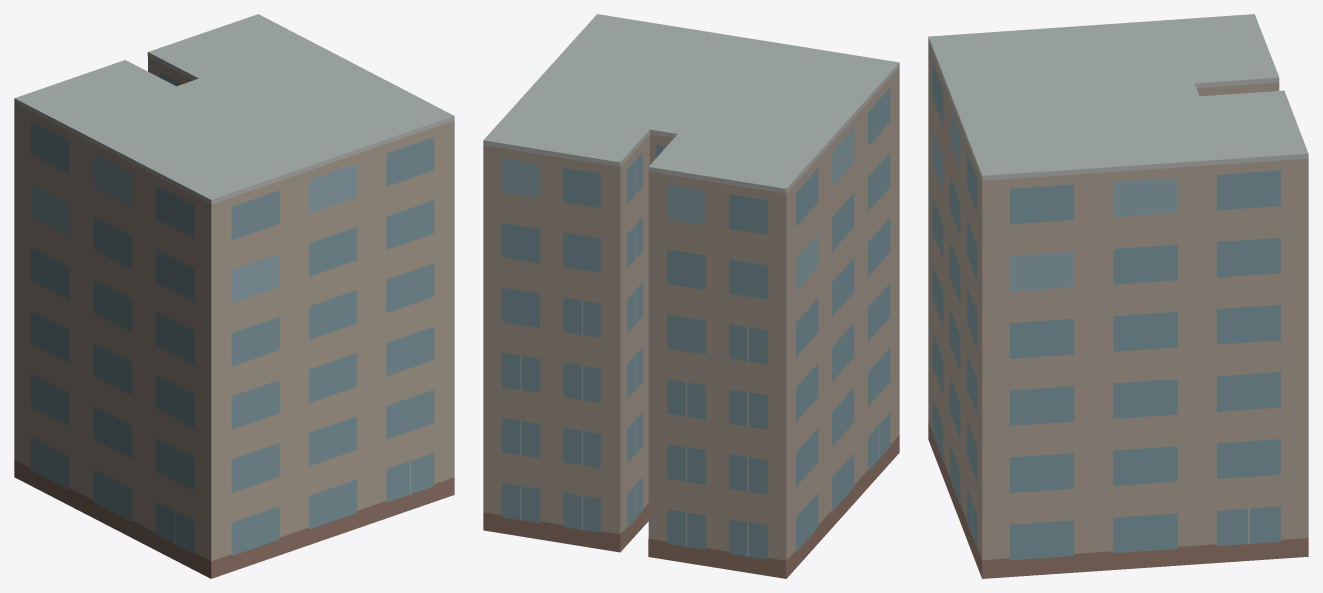
The model's file is survey-upis-32757573.glb.
3 renders of one model, left to right at view 1: azimuth 30°, elevation 25°; view 2: azimuth 150°, elevation 25°; view 3: azimuth 270°, elevation 25°, orthographic. The views are drawn at different scales.
Parts seen in each view (by area): view 1: survey-upis-32757573.tmp; view 2: survey-upis-32757573.tmp; view 3: survey-upis-32757573.tmp.
Part boxes in pixels (bbox=[...]): survey-upis-32757573.tmp: bbox=[14, 14, 454, 578]; survey-upis-32757573.tmp: bbox=[483, 14, 899, 578]; survey-upis-32757573.tmp: bbox=[928, 14, 1308, 578].
Bounding box in the file's own units: 17.15 × 19.9 × 17.02.
